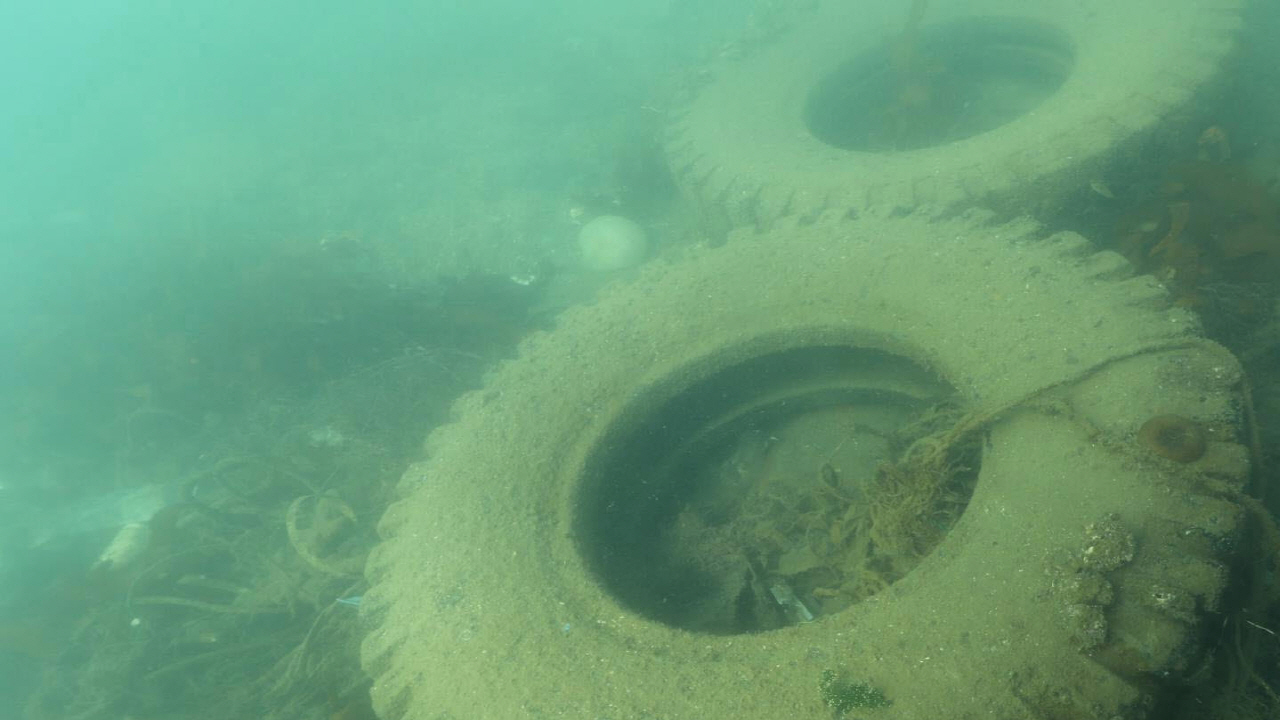bundle of ropes: (934, 331, 1270, 531)
tire: (354, 206, 1252, 720), (659, 0, 1251, 227)
